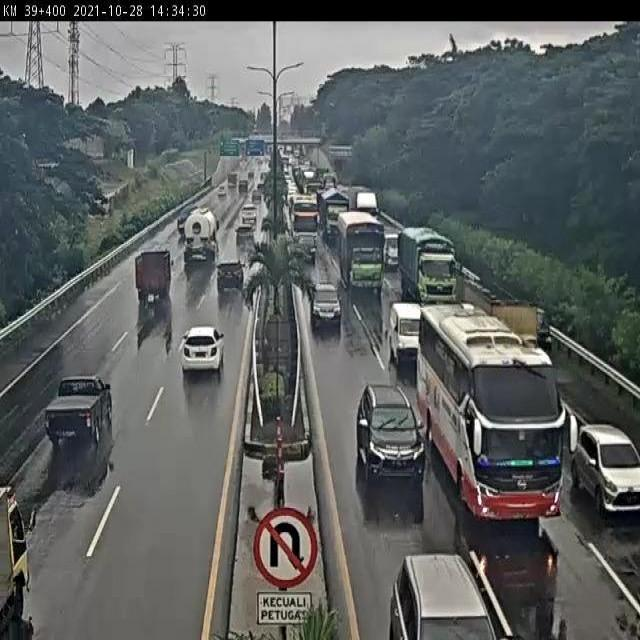big bus: (417, 306, 578, 522)
big truck: (333, 211, 386, 292), (394, 224, 453, 296)
car: (356, 383, 426, 484), (578, 421, 640, 512), (43, 376, 116, 451), (388, 301, 428, 372), (183, 324, 226, 377), (307, 275, 342, 332), (216, 258, 248, 298), (293, 231, 319, 261), (235, 229, 258, 260)
small truck: (134, 248, 175, 311), (181, 211, 222, 268)
